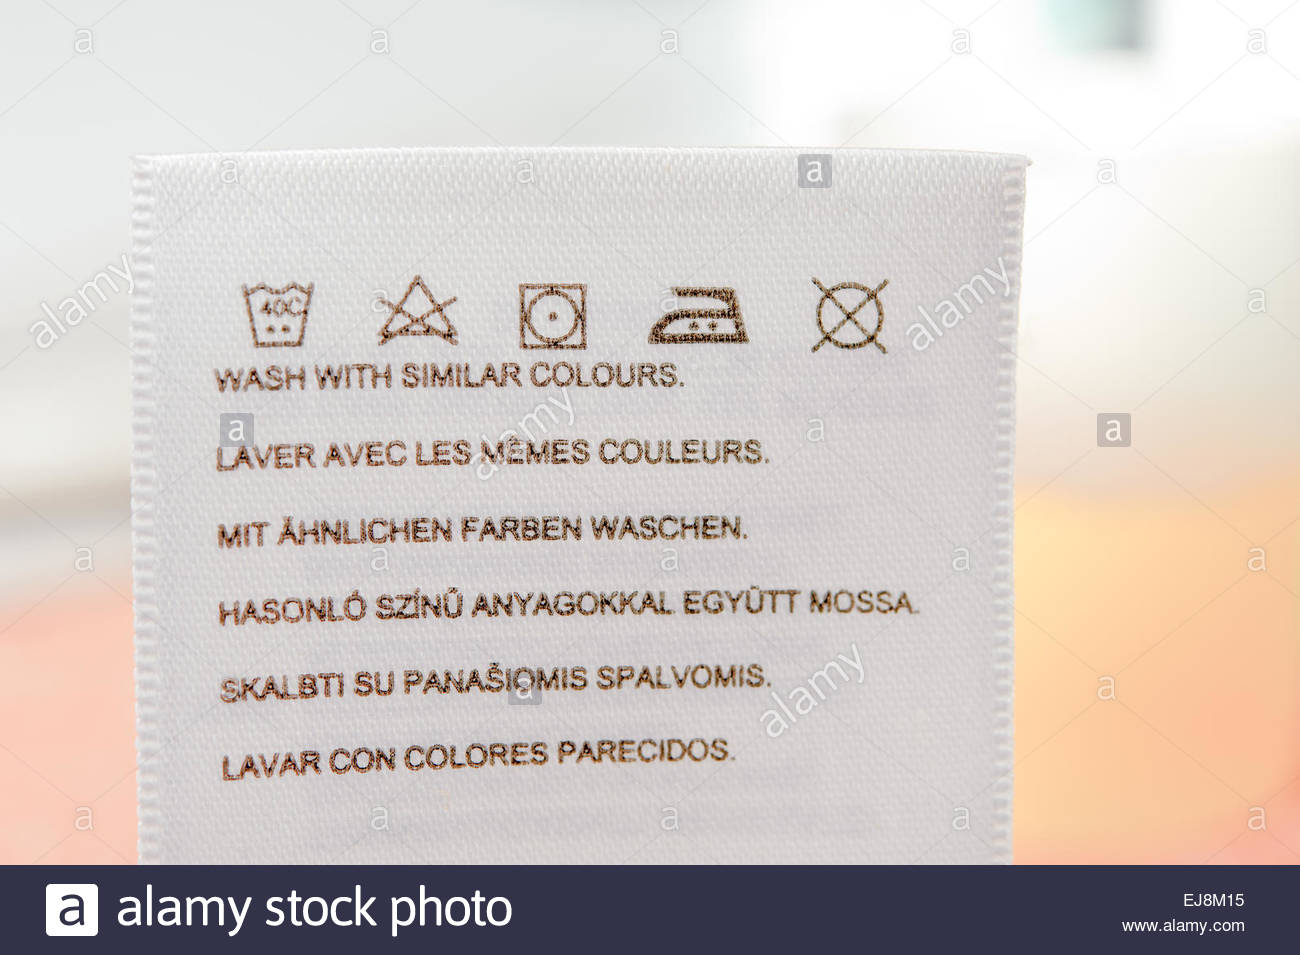do_not_bleach: (377, 274, 464, 349)
do_not_dry_clean: (807, 272, 886, 355)
